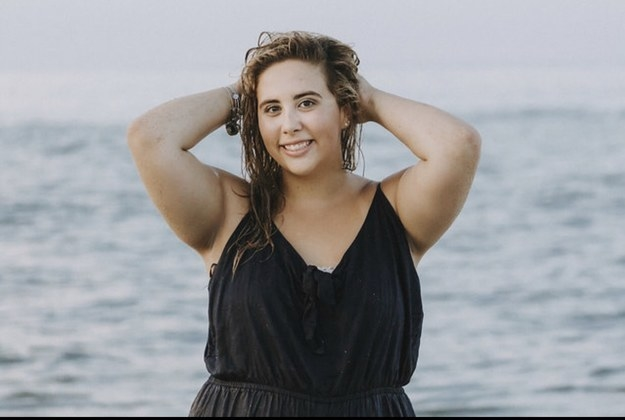NoMask: (259, 88, 335, 172)
